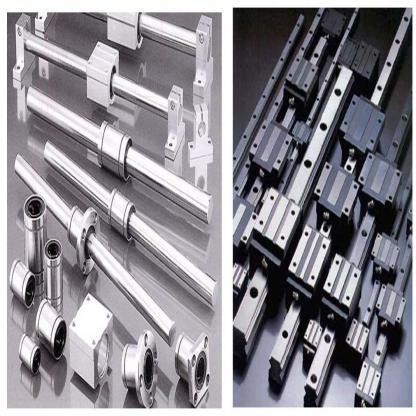FOD: (34, 296, 68, 362)
